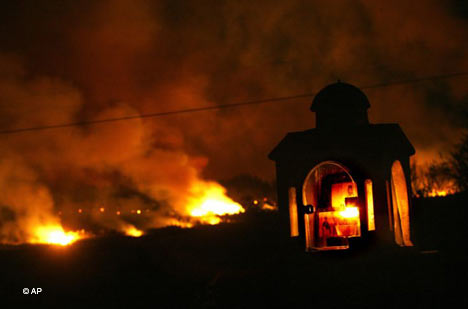fire: (25, 174, 251, 246), (310, 170, 390, 257)
